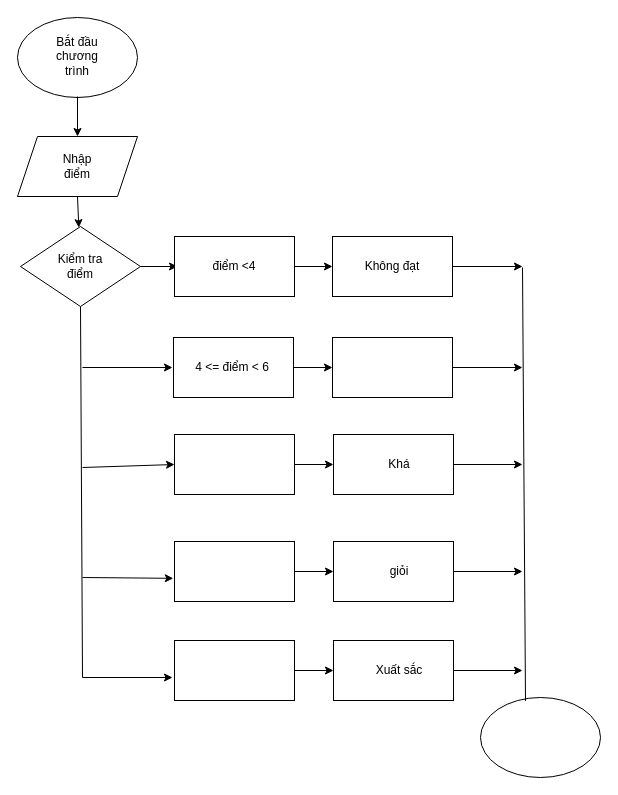
This 618x795 diagram has some shape labels left out. The shapes that lost their labels are listed below. From the top down, each one's box as (x1, y1, x2, y2) in pixels, then its label:
(332, 336, 452, 398): Trung bình
(174, 434, 294, 494): 6 <= điểm < 8
(174, 540, 294, 602): 8 <= điểm < 9
(174, 640, 294, 700): 9<= điểm <=10
(480, 696, 600, 778): Kết thúc chương trình
